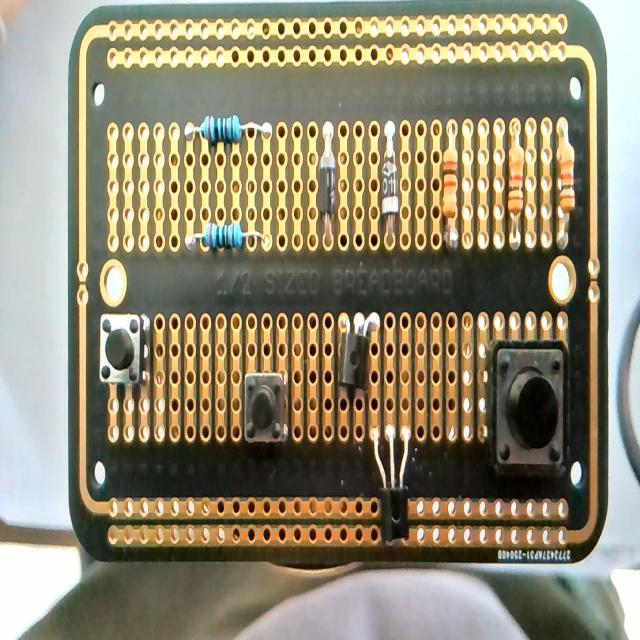diode: (381, 120, 398, 244), (319, 122, 336, 243)
resistor: (184, 114, 271, 144), (555, 119, 575, 248), (184, 222, 268, 252), (441, 125, 459, 250), (508, 128, 524, 247)
switch: (489, 341, 567, 474), (98, 312, 148, 386), (244, 371, 288, 444)
transistor: (373, 425, 412, 540), (340, 310, 381, 398)
